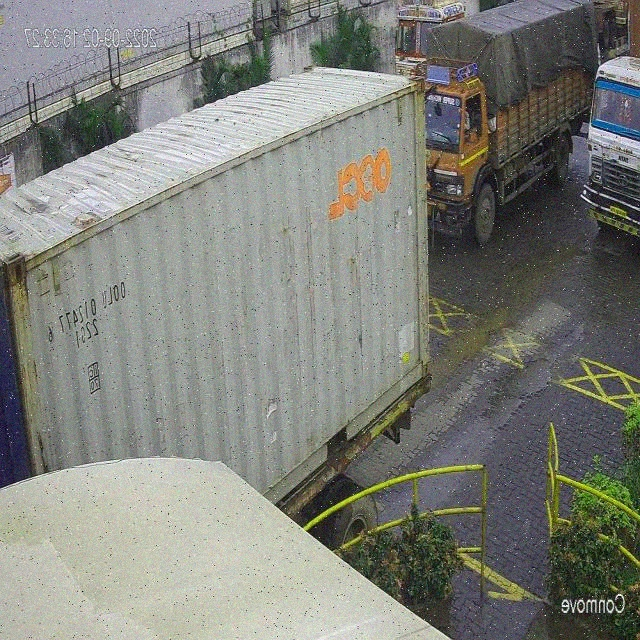Dent: (16, 170, 87, 249), (379, 197, 426, 237), (262, 388, 287, 463)
Rusty: (1, 252, 63, 470)
